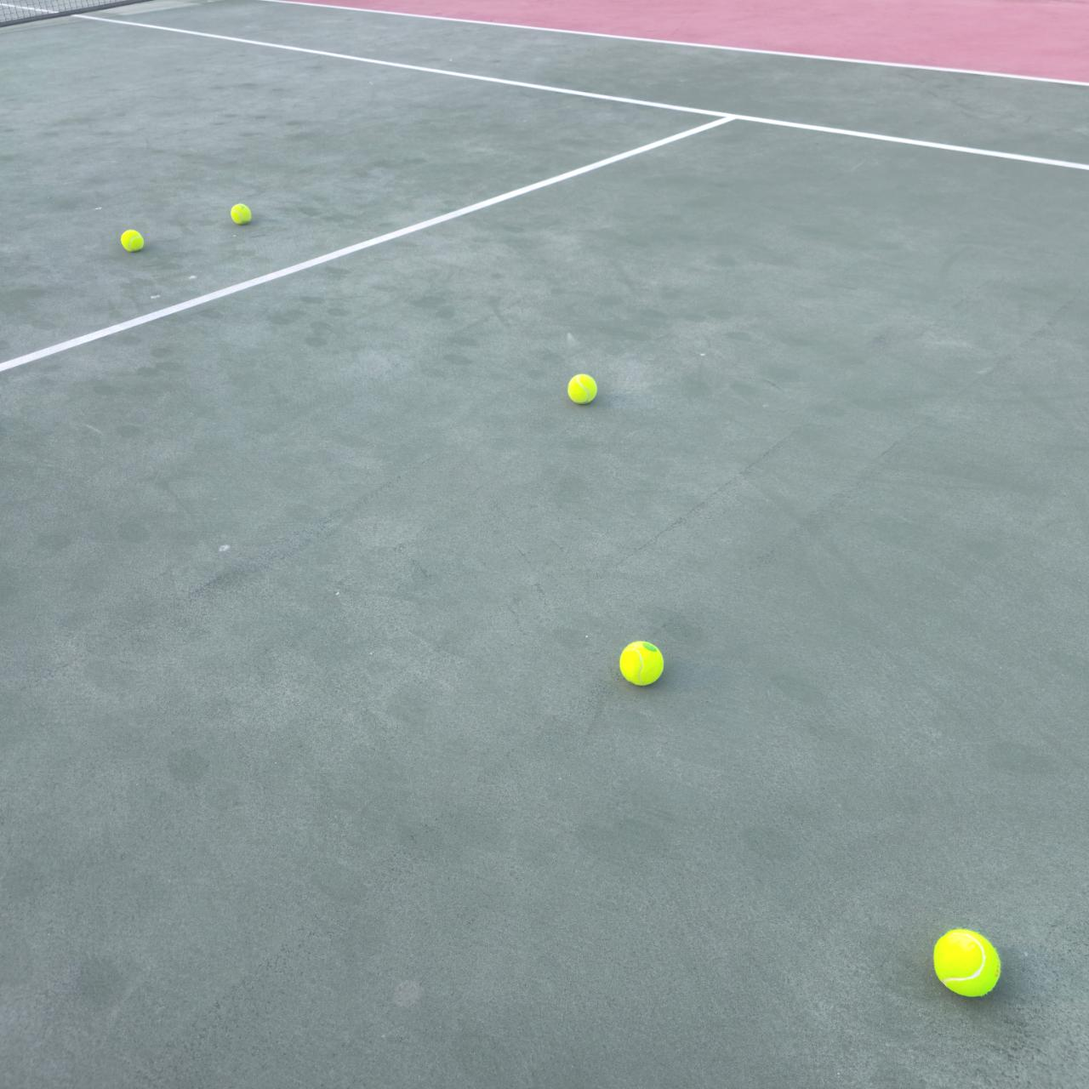tennis-ball: (931, 925, 1001, 998), (618, 638, 664, 687), (565, 371, 598, 404), (118, 226, 145, 253), (228, 201, 252, 225)
